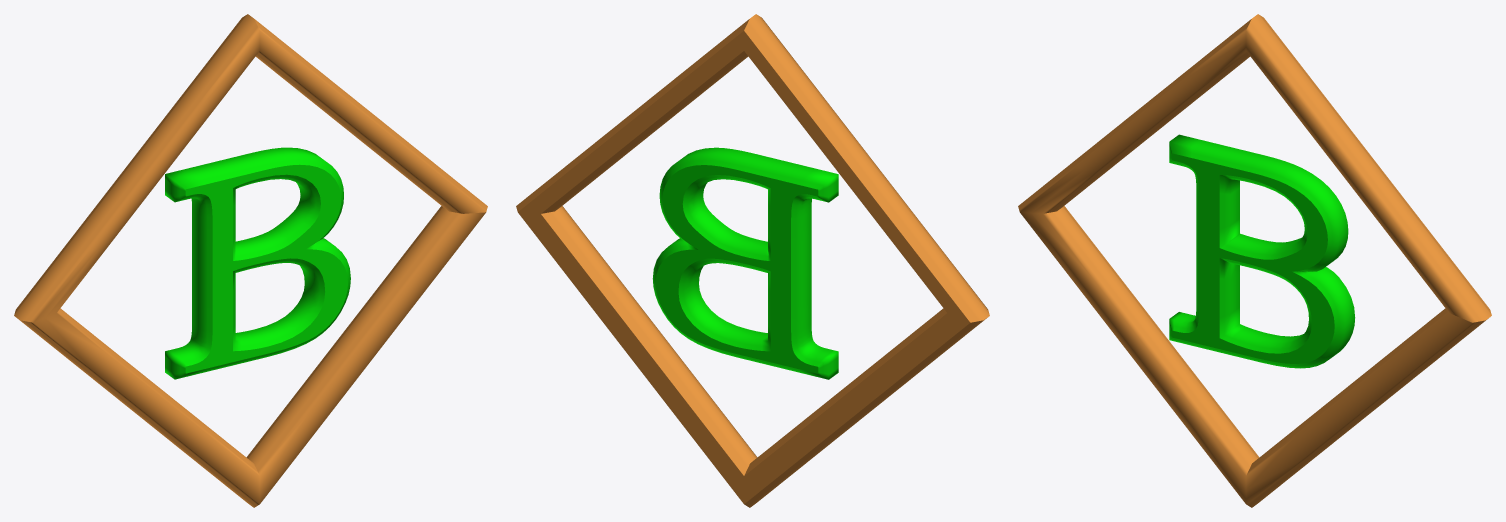
Rendered from boostSign_green_orange.fbx.
The picture shows the model from 3 angles, left to right: view 1: azimuth 30°, elevation 25°; view 2: azimuth 150°, elevation 25°; view 3: azimuth 330°, elevation 25°; orthographic projection.
Parts seen in each view (by area): view 1: polySurface2, polySurface1; view 2: polySurface2, polySurface1; view 3: polySurface2, polySurface1.
Boxes of the visible parts, bbox=[...] form: polySurface2: bbox=[14, 14, 487, 507]; polySurface1: bbox=[165, 147, 350, 379]; polySurface2: bbox=[516, 14, 989, 507]; polySurface1: bbox=[652, 147, 838, 379]; polySurface2: bbox=[1018, 14, 1491, 507]; polySurface1: bbox=[1169, 134, 1355, 368].
Bounding box in the file's own units: 6.9 × 6.9 × 0.4566.
